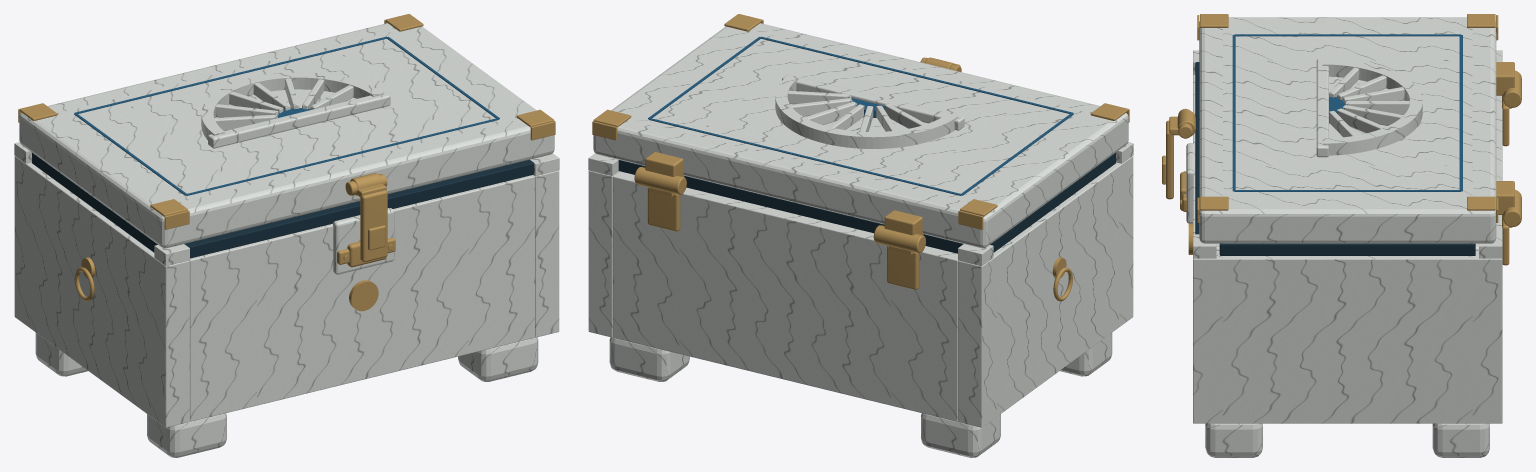
Rendered from greece.glb.
3 views of the same model, side by side, from view 1: azimuth 30°, elevation 25°; view 2: azimuth 150°, elevation 25°; view 3: azimuth 270°, elevation 25° (orthographic). The views are drawn at different scales.
Parts seen in each view (by area): view 1: Lid / polished slab, Marble skin / front, Marble skin / side, Mineral seam / long, Marble skin / side.001, Fanlight / outer arch, Fanlight / sill, Marble foot, Marble foot.002, Marble / clasp seat, Latch / lifting hasp, Mineral seam / side (+8 smaller); view 2: Lid / polished slab, Marble skin / rear, Marble skin / side, Marble skin / side.001, Fanlight / outer arch, Mineral seam / long.001, Marble foot.001, Marble foot.003, Fanlight / sill, Mineral seam / side, Hinge / fixed mount.001, Hinge / fixed mount (+11 smaller); view 3: Lid / polished slab, Marble skin / side.001, Fanlight / outer arch, Mineral seam / side.001, Marble foot.002, Marble foot.003, Fanlight / sill, Mineral seam / long, Marble skin / rear, Inlay / short, Marble / clasp seat, Inlay / long (+20 smaller).
Part boxes in pixels (x1,y1,x2,y2): Lid / polished slab: (19,23,554,248); Marble skin / front: (189,175,534,421); Marble skin / side: (14,156,189,427); Mineral seam / long: (184,159,533,258); Marble skin / side.001: (533,170,559,337); Fanlight / outer arch: (201,72,383,139); Fanlight / sill: (208,92,390,148); Marble foot: (147,413,226,457); Marble foot.002: (458,337,538,381); Marble / clasp seat: (333,208,394,274); Latch / lifting hasp: (360,190,387,262); Mineral seam / side: (32,152,157,252); Lid / polished slab: (593,23,1128,248); Marble skin / rear: (613,171,958,421); Marble skin / side: (958,156,1133,427); Marble skin / side.001: (588,170,619,337); Fanlight / outer arch: (775,75,957,148); Mineral seam / long.001: (618,160,963,253); Marble foot.001: (921,413,1000,457); Marble foot.003: (609,337,689,381); Fanlight / sill: (782,74,964,130); Mineral seam / side: (990,152,1115,252); Hinge / fixed mount.001: (647,187,680,231); Hinge / fixed mount: (887,245,919,289); Lid / polished slab: (1199,17,1496,243); Marble skin / side.001: (1193,251,1502,423); Fanlight / outer arch: (1322,59,1422,155); Mineral seam / side.001: (1219,243,1475,255); Marble foot.002: (1205,423,1262,457); Marble foot.003: (1432,423,1489,457); Fanlight / sill: (1316,59,1328,157); Mineral seam / long: (1195,62,1199,234); Marble skin / rear: (1496,95,1502,234); Inlay / short: (1234,34,1461,36); Marble / clasp seat: (1186,143,1195,223); Inlay / long: (1232,35,1235,191).
Bounding box in the file's own units: 3.79 × 2.37 × 2.88.
4 materials, 1 textured.
